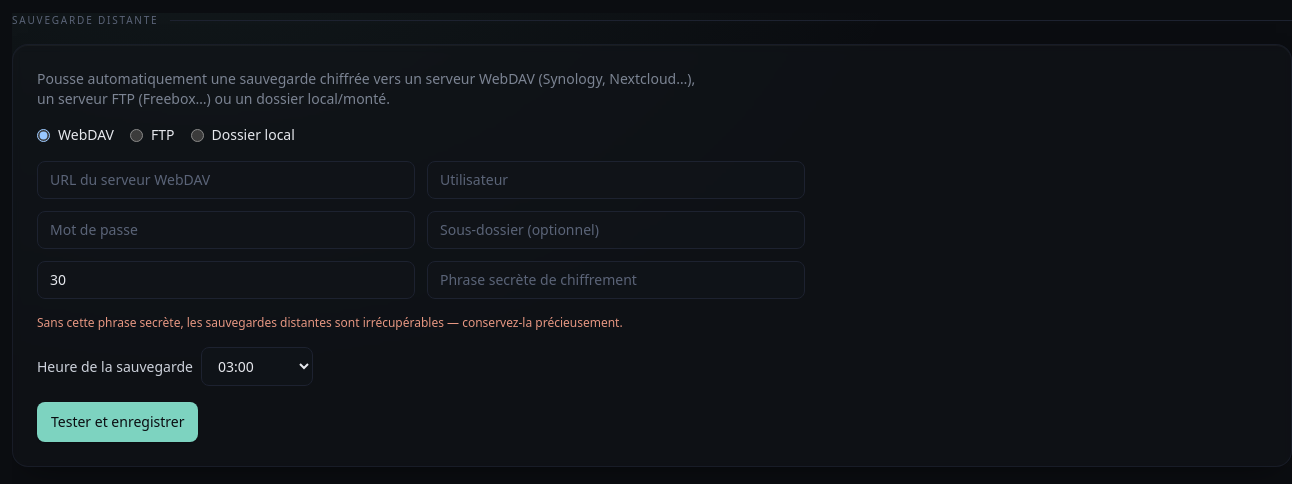
it: RemoteBackupCard › unconfigured: shows the form; switching kind swaps the fields
Expected: the field labelled "URL du serveur WebDAV" is shown, [37,161,415,199]
Click the radio button labelled "Dossier local" at (197, 135), box [190,128,204,142]
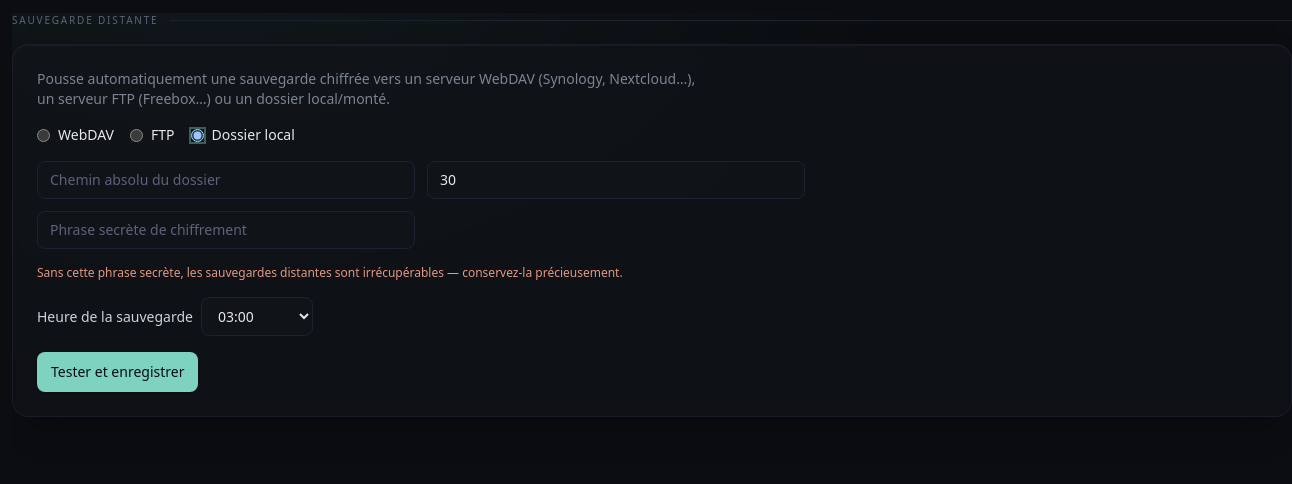
Expected: the field labelled "URL" is not shown
Expected: the field labelled "Chemin absolu du dossier" is shown, [37,161,415,199]
